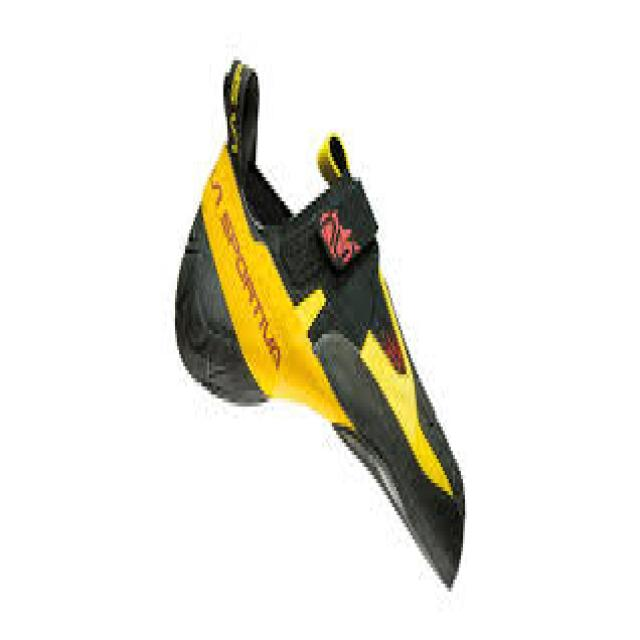climbing-shoes: (173, 57, 467, 593)
